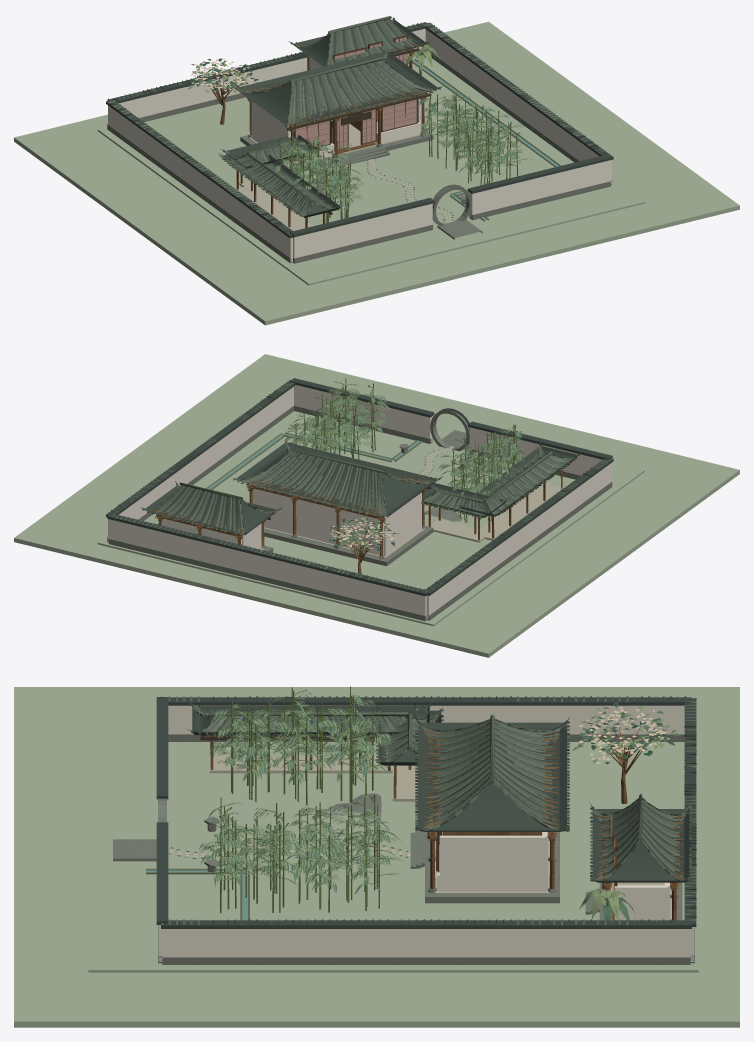
The model's file is sample.glb.
The picture shows the model from 3 angles, top to bottom: view 1: azimuth 30°, elevation 25°; view 2: azimuth 150°, elevation 25°; view 3: azimuth 270°, elevation 25°; orthographic projection. The views are drawn at different scales.
Visible parts, largest first — view 1: sample_ground_earth, xiaoxiangguan_earth, xiaoxiangguan_plaster, xiaoxiangguan_roof, xiaoxiangguan_stone, xiaoxiangguan_tile, xiaoxiangguan_tiledark.001, xiaoxiangguan_lightleaf, xiaoxiangguan_leaf, xiaoxiangguan_bamboo, xiaoxiangguan_wood, xiaoxiangguan_silk.001 (+6 smaller); view 2: sample_ground_earth, xiaoxiangguan_plaster, xiaoxiangguan_roof, xiaoxiangguan_earth, xiaoxiangguan_stone, xiaoxiangguan_tiledark.001, xiaoxiangguan_tile, xiaoxiangguan_leaf, xiaoxiangguan_lightleaf, xiaoxiangguan_bamboo, xiaoxiangguan_wood, xiaoxiangguan_paving.001 (+3 smaller); view 3: sample_ground_earth, xiaoxiangguan_earth, xiaoxiangguan_roof, xiaoxiangguan_plaster, xiaoxiangguan_lightleaf, xiaoxiangguan_leaf, xiaoxiangguan_stone, xiaoxiangguan_bamboo, xiaoxiangguan_tiledark.001, xiaoxiangguan_tile, xiaoxiangguan_wood, xiaoxiangguan_paving.001 (+5 smaller).
Boxes of the visible parts, box(x1,y1,x2,y2) form: sample_ground_earth: box(14, 21, 739, 325); xiaoxiangguan_earth: box(97, 56, 644, 285); xiaoxiangguan_plaster: box(108, 28, 611, 262); xiaoxiangguan_roof: box(106, 19, 613, 238); xiaoxiangguan_stone: box(107, 49, 612, 263); xiaoxiangguan_tile: box(108, 20, 613, 235); xiaoxiangguan_tiledark.001: box(218, 16, 443, 217); xiaoxiangguan_lightleaf: box(187, 44, 527, 221); xiaoxiangguan_leaf: box(188, 50, 531, 213); xiaoxiangguan_bamboo: box(273, 45, 526, 222); xiaoxiangguan_wood: box(204, 36, 433, 227); xiaoxiangguan_silk.001: box(295, 37, 416, 149); sample_ground_earth: box(14, 354, 739, 657); xiaoxiangguan_plaster: box(108, 385, 611, 619); xiaoxiangguan_roof: box(106, 378, 613, 596); xiaoxiangguan_earth: box(97, 411, 644, 626); xiaoxiangguan_stone: box(107, 405, 612, 620); xiaoxiangguan_tiledark.001: box(140, 440, 581, 535); xiaoxiangguan_tile: box(108, 379, 613, 593); xiaoxiangguan_leaf: box(155, 381, 527, 550); xiaoxiangguan_lightleaf: box(285, 382, 524, 551); xiaoxiangguan_bamboo: box(292, 378, 520, 522); xiaoxiangguan_wood: box(148, 447, 570, 574); xiaoxiangguan_paving.001: box(261, 448, 563, 558); sample_ground_earth: box(14, 687, 739, 1027); xiaoxiangguan_earth: box(88, 733, 698, 972); xiaoxiangguan_roof: box(156, 697, 696, 928); xiaoxiangguan_plaster: box(158, 705, 694, 961); xiaoxiangguan_lightleaf: box(200, 690, 676, 920); xiaoxiangguan_leaf: box(199, 689, 680, 920); xiaoxiangguan_stone: box(113, 734, 694, 964); xiaoxiangguan_bamboo: box(206, 686, 632, 919); xiaoxiangguan_tiledark.001: box(186, 700, 692, 881); xiaoxiangguan_tile: box(161, 696, 696, 925); xiaoxiangguan_wood: box(201, 710, 689, 920); xiaoxiangguan_paving.001: box(168, 756, 671, 920).
Bounding box in the file's own units: 48 × 7.53 × 44.
Materials: 19 (2 with a texture image).
